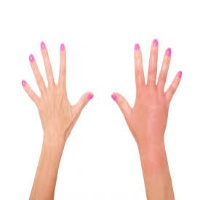ring: (28, 53, 46, 95), (159, 40, 172, 96)
